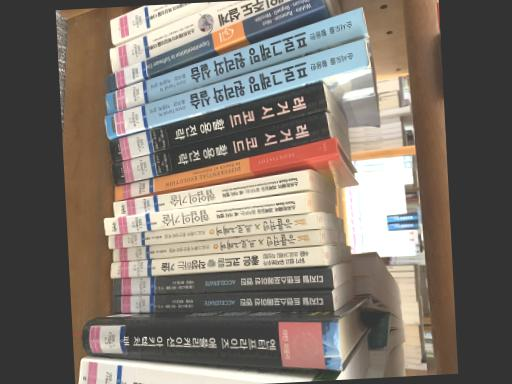book-spine: (104, 8, 366, 114), (103, 39, 369, 138), (105, 0, 323, 91), (106, 83, 326, 163), (109, 112, 329, 186), (113, 138, 336, 201), (81, 318, 341, 370), (109, 0, 291, 73), (112, 170, 309, 217), (103, 193, 306, 235), (107, 214, 317, 249), (111, 230, 320, 262), (109, 247, 323, 278), (112, 268, 332, 295), (112, 292, 333, 313), (77, 361, 265, 384), (109, 2, 214, 43)
